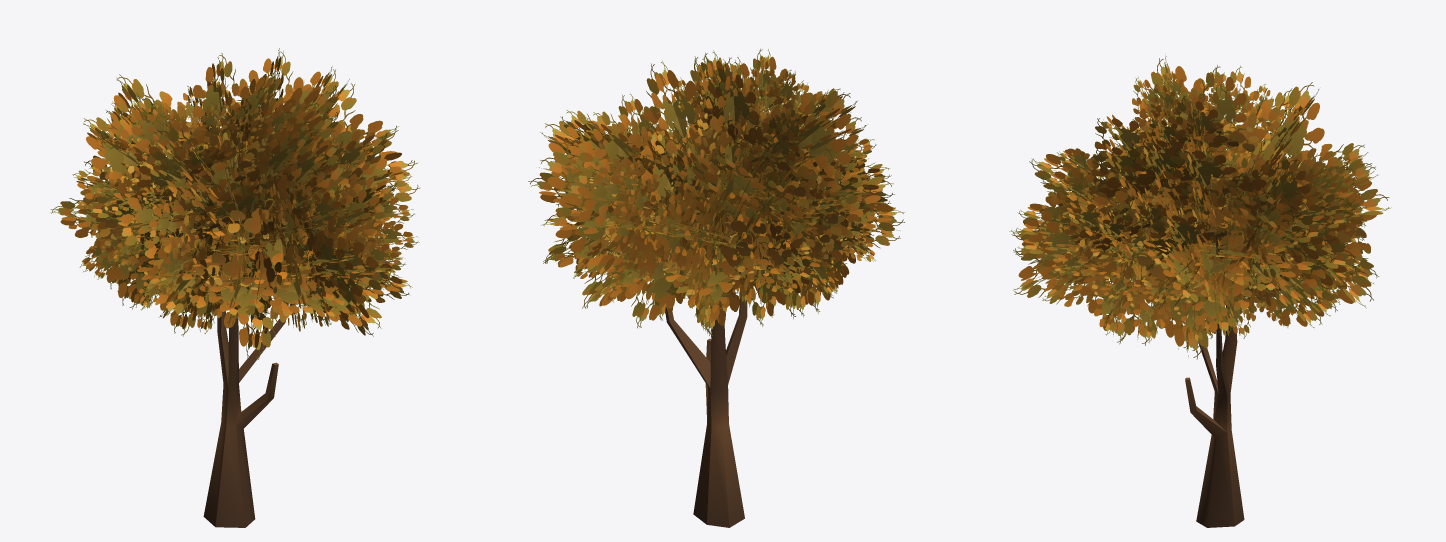
File: Tree2F2.fbx
The picture shows the model from 3 angles, left to right: view 1: azimuth 30°, elevation 25°; view 2: azimuth 150°, elevation 25°; view 3: azimuth 270°, elevation 25°; orthographic projection. The views are drawn at different scales.
Parts seen in each view (by area): view 1: Tree_2F; view 2: Tree_2F; view 3: Tree_2F.
Boxes of the visible parts, x1,y1,x2,y2 form: Tree_2F: (50, 48, 420, 527); Tree_2F: (528, 48, 904, 527); Tree_2F: (1009, 55, 1391, 527).
Size of the model in its own units: 3.54 by 4.29 by 3.7.
